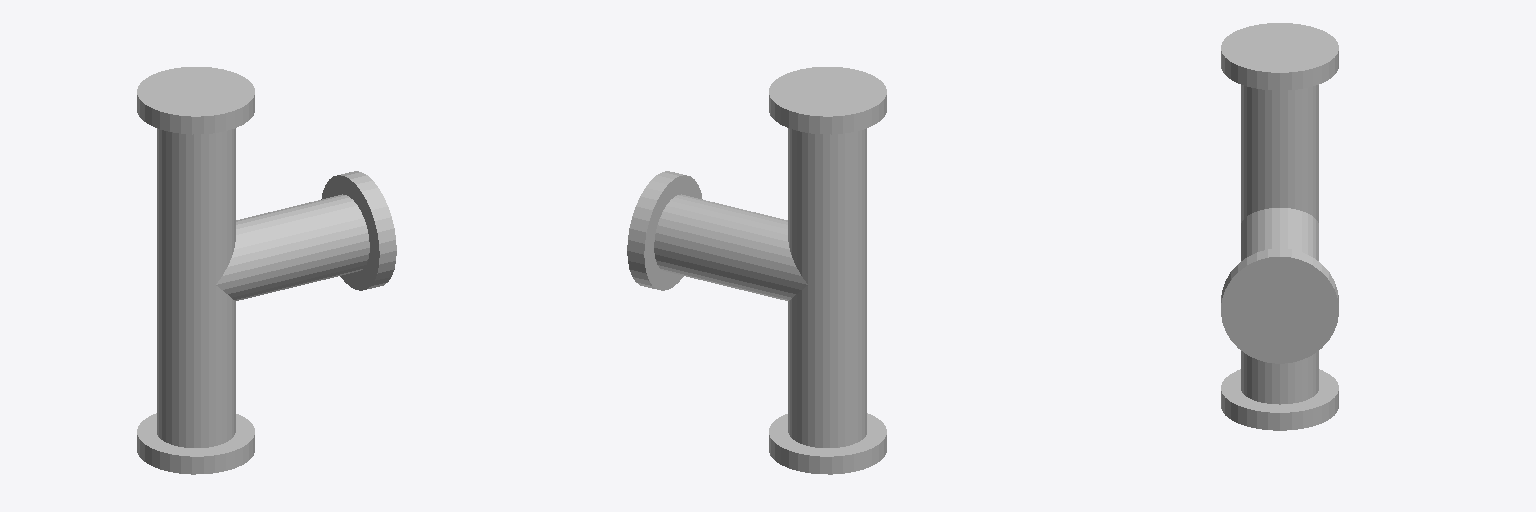
Rendered from pipe_t.obj.
3 renders of one model, left to right at view 1: azimuth 30°, elevation 25°; view 2: azimuth 150°, elevation 25°; view 3: azimuth 270°, elevation 25°, orthographic.
Parts seen in each view (by area): view 1: Cylinder; view 2: Cylinder; view 3: Cylinder.
Boxes of the visible parts, x1,y1,x2,y2 form: Cylinder: [137, 67, 396, 474]; Cylinder: [627, 67, 886, 474]; Cylinder: [1221, 23, 1338, 430].
Size of the model in its own units: 1.3 by 2 by 0.6.